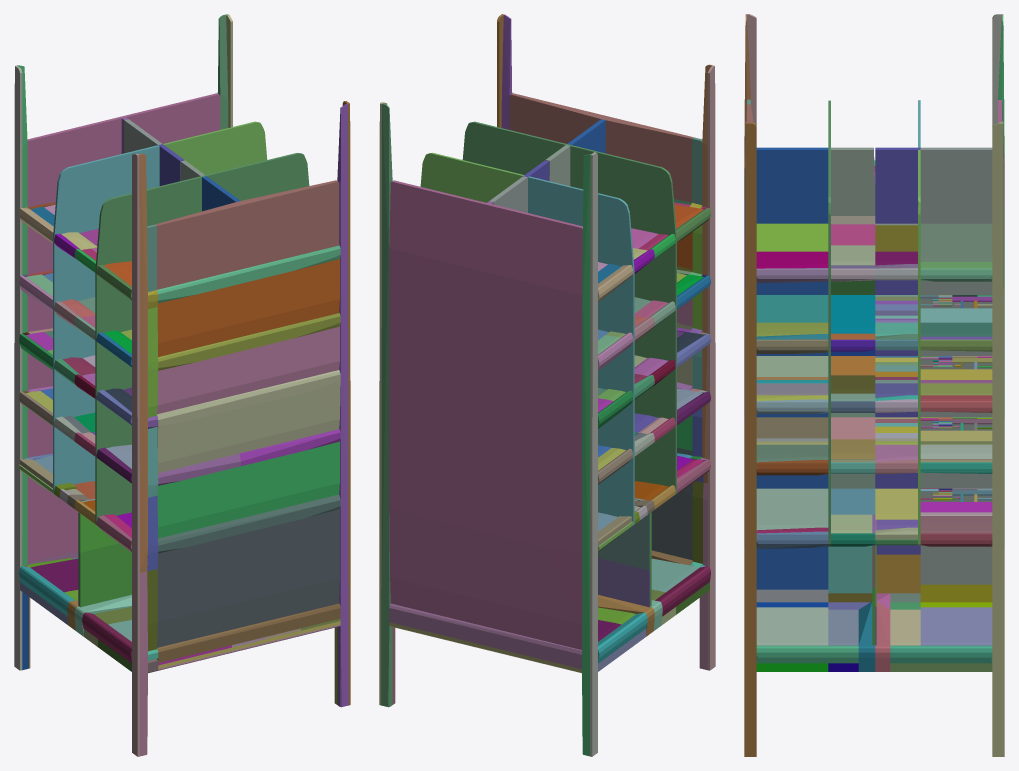
File: kiva_pod.dae
The picture shows the model from 3 angles, left to right: view 1: azimuth 30°, elevation 25°; view 2: azimuth 150°, elevation 25°; view 3: azimuth 270°, elevation 25°; orthographic projection. The views are drawn at different scales.
Visible parts, largest first — view 1: Kiva_Pod_ACD; view 2: Kiva_Pod_ACD; view 3: Kiva_Pod_ACD.
Part boxes in pixels (box(x1,y1,x2,y2)): Kiva_Pod_ACD: box(14, 14, 350, 756); Kiva_Pod_ACD: box(379, 14, 715, 756); Kiva_Pod_ACD: box(744, 14, 1004, 756).
Bounding box in the file's own units: 0.8889 × 0.8842 × 2.37.
